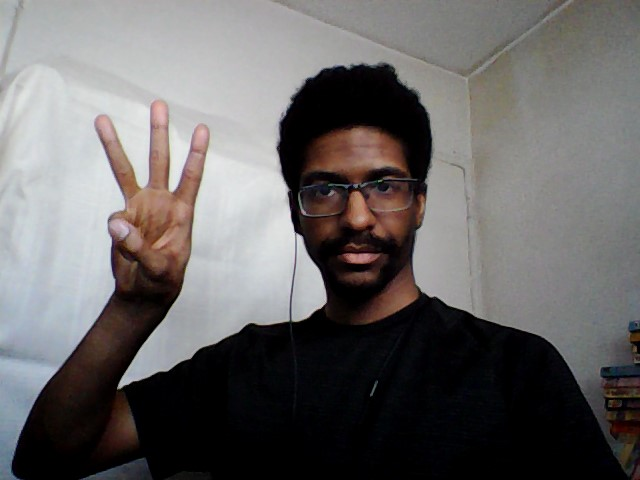w: (89, 93, 215, 312)
